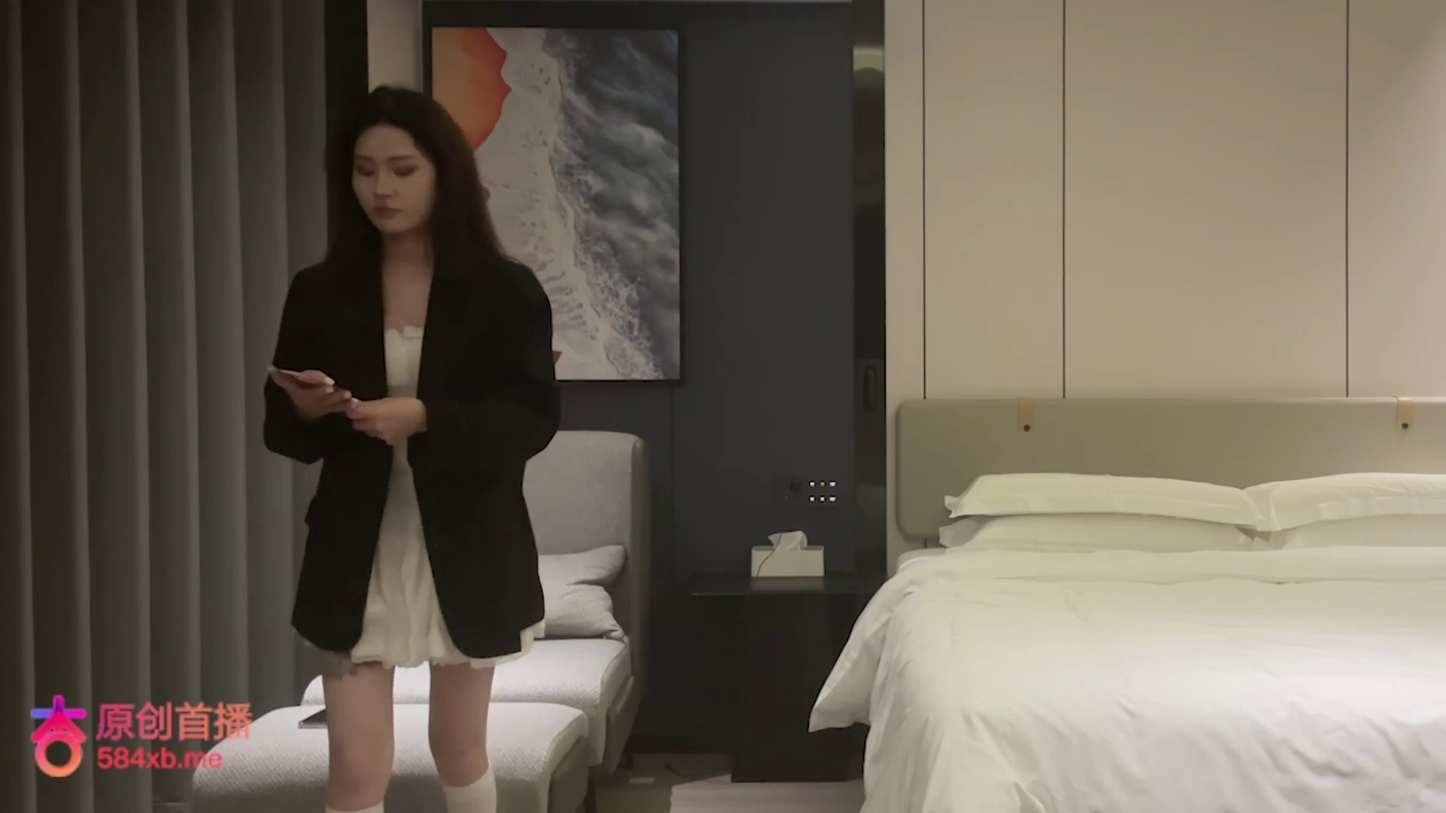stand: (261, 83, 562, 807)
